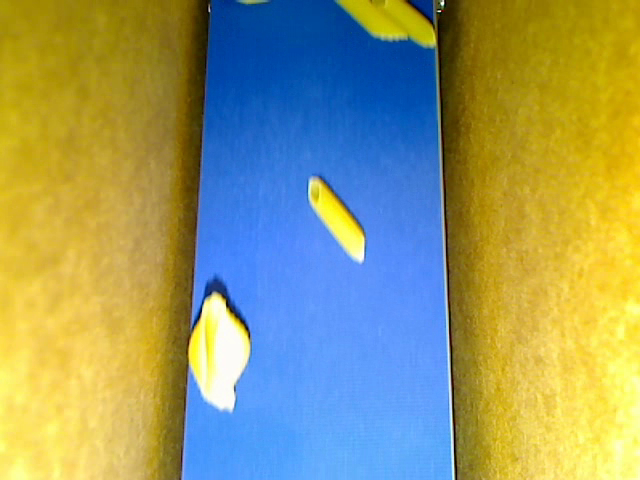penne: (307, 174, 364, 264), (370, 1, 436, 50), (335, 1, 408, 42)
shell: (186, 292, 252, 412)
